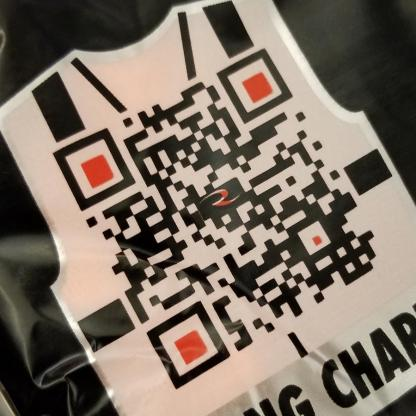qr: (41, 43, 390, 394)
